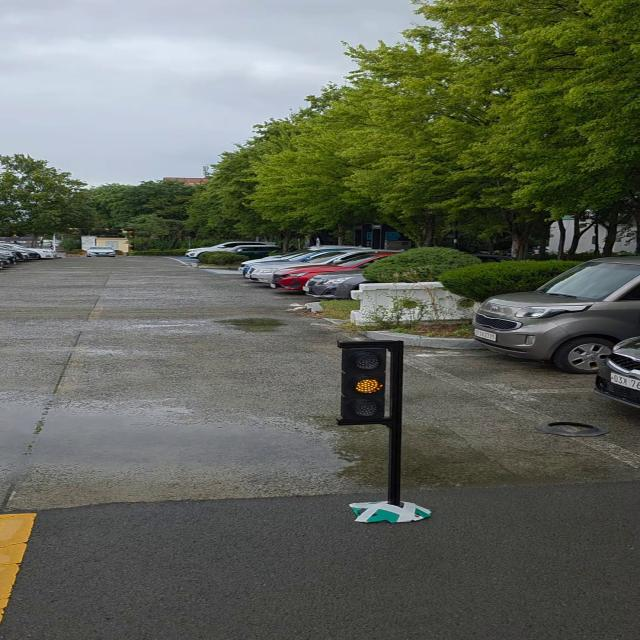yellow: (340, 342, 392, 426)
